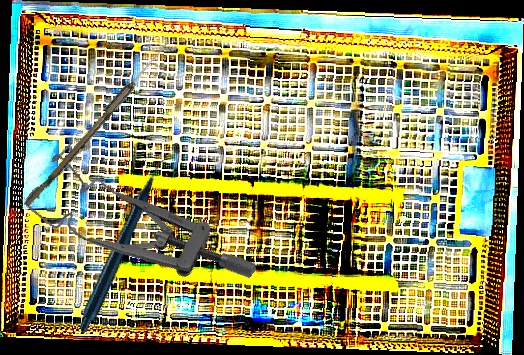Handpiece: (28, 157, 223, 334)
Speculum: (18, 123, 261, 343)
Surgical Spoon: (24, 38, 171, 211)
